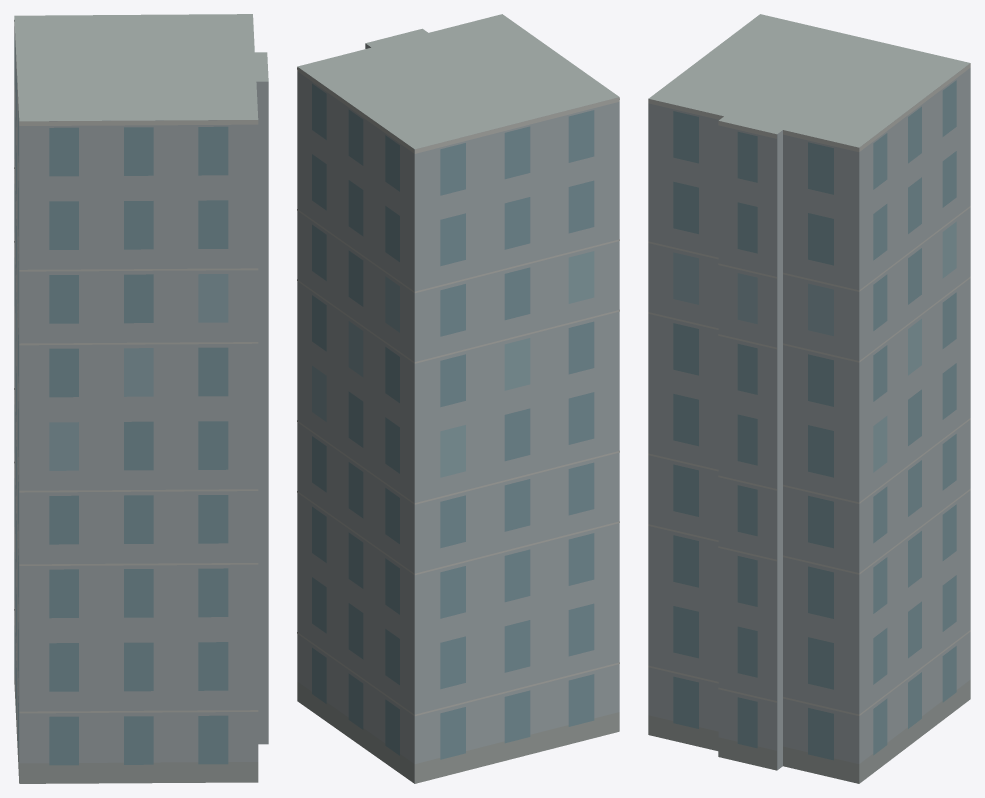
Rendered from survey-upis-33021254.glb.
3 renders of one model, left to right at view 1: azimuth 30°, elevation 25°; view 2: azimuth 150°, elevation 25°; view 3: azimuth 270°, elevation 25°, orthographic. The views are drawn at different scales.
Visible parts, largest first — view 1: survey-upis-33021254.tmp; view 2: survey-upis-33021254.tmp; view 3: survey-upis-33021254.tmp.
Part boxes in pixels (x1=…): survey-upis-33021254.tmp: x1=14, y1=14, x2=268, y2=783; survey-upis-33021254.tmp: x1=297, y1=14, x2=619, y2=783; survey-upis-33021254.tmp: x1=648, y1=14, x2=970, y2=783.
Size of the model in its own units: 15.09 by 33.45 by 15.37.
